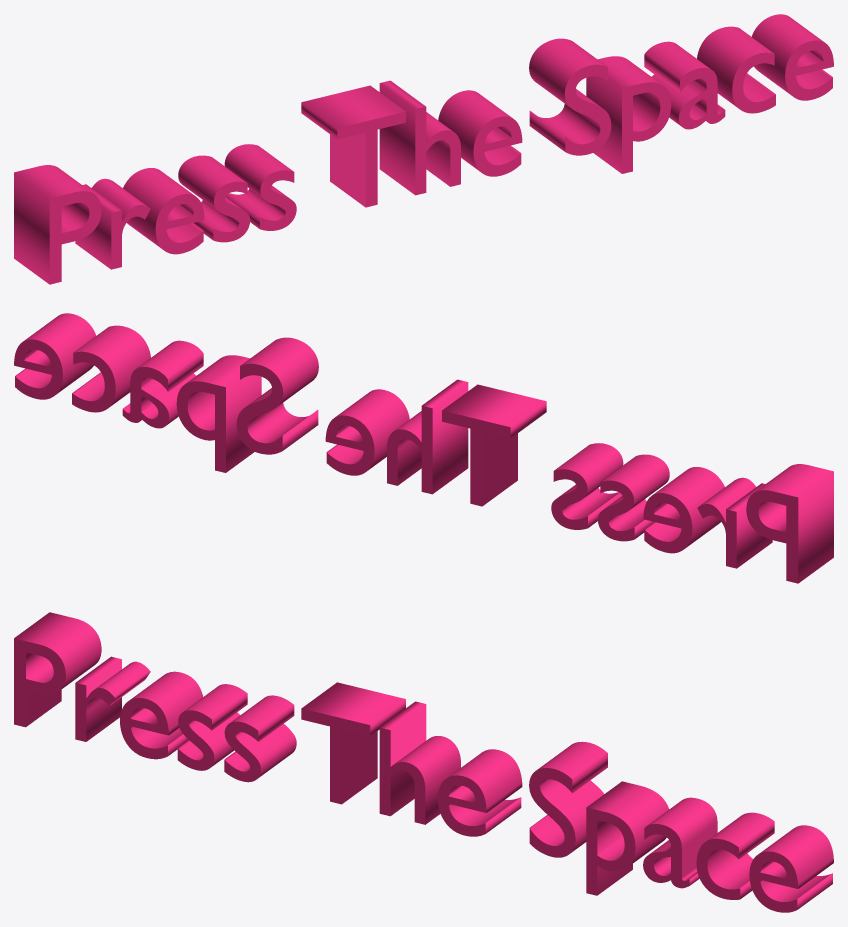
File: pressthespaceText.obj
3 views of the same model, one above another, from view 1: azimuth 30°, elevation 25°; view 2: azimuth 150°, elevation 25°; view 3: azimuth 330°, elevation 25° (orthographic).
Parts seen in each view (by area): view 1: テキスト; view 2: テキスト; view 3: テキスト.
Boxes of the visible parts, x1=… form: テキスト: x1=14, y1=14, x2=833, y2=284; テキスト: x1=14, y1=313, x2=833, y2=583; テキスト: x1=14, y1=612, x2=833, y2=912.
Size of the model in its own units: 2.54 by 0.3598 by 0.2.
1 material, 1 textured.
